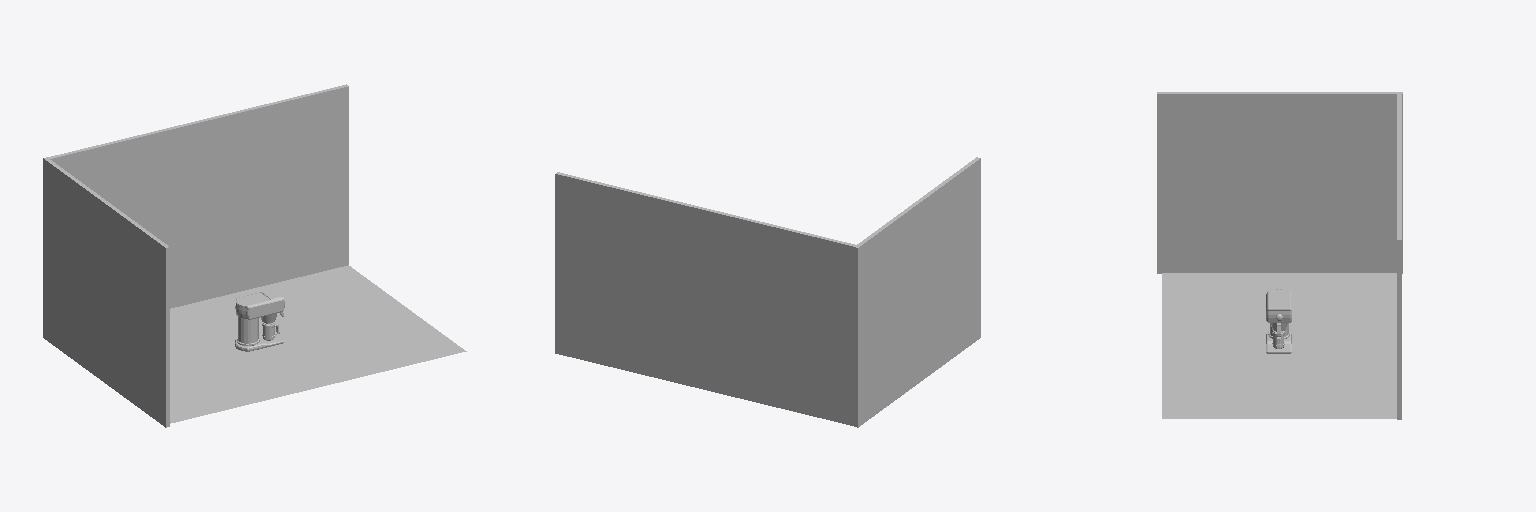
File: Coffee_Maker.obj
The picture shows the model from 3 angles: view 1: azimuth 30°, elevation 25°; view 2: azimuth 150°, elevation 25°; view 3: azimuth 270°, elevation 25°; orthographic projection.
Parts seen in each view (by area): view 1: Box03, Plane01, Box05, Top; view 2: Box03, Box05; view 3: Box05, Plane01, Box03, Top.
Part boxes in pixels (x1,y1,x2,y2): Box03: (47, 84, 348, 308); Plane01: (170, 265, 466, 423); Box05: (43, 157, 169, 427); Top: (235, 289, 284, 319); Box03: (555, 172, 857, 425); Box05: (854, 157, 980, 427); Box05: (1157, 92, 1402, 273); Plane01: (1162, 273, 1396, 418); Box03: (1397, 94, 1401, 419); Top: (1266, 289, 1291, 322).
Bounding box in the file's own units: 576 × 326 × 403.